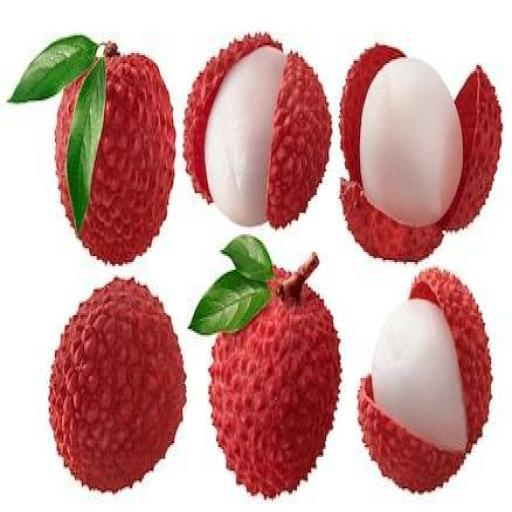lychee: (190, 235, 341, 498), (10, 36, 175, 263), (341, 46, 501, 259), (210, 270, 340, 498), (359, 270, 490, 492), (50, 280, 185, 492), (184, 36, 331, 226), (79, 52, 175, 263)
